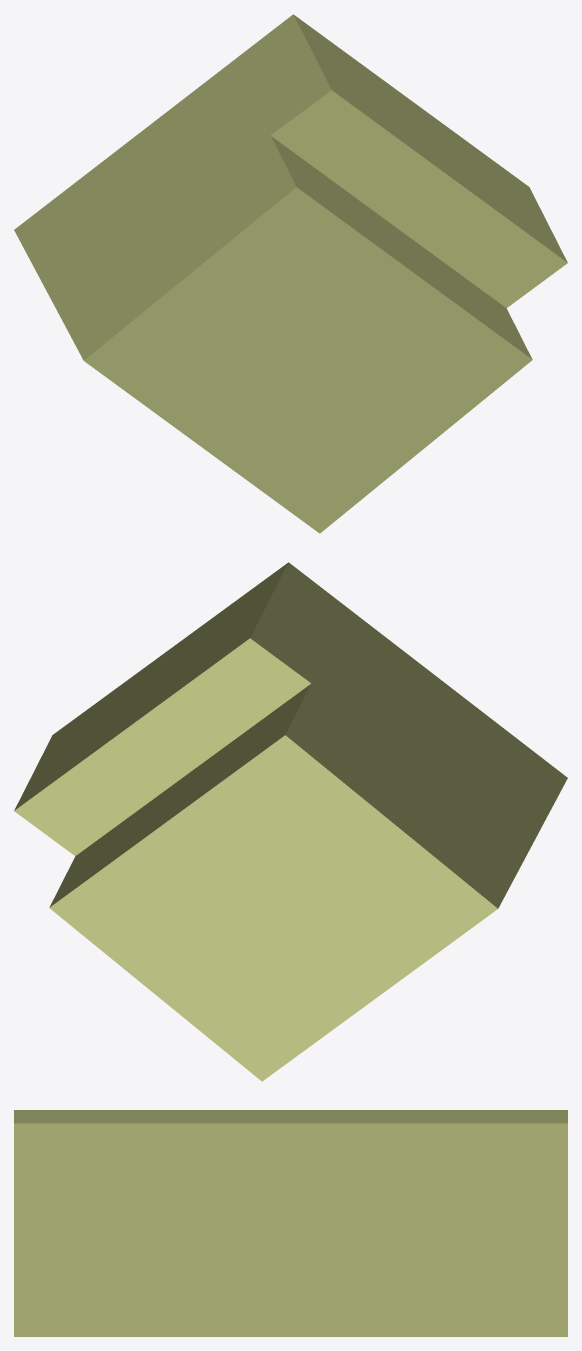
The picture shows the model from 3 angles, top to bottom: view 1: azimuth 30°, elevation 25°; view 2: azimuth 150°, elevation 25°; view 3: azimuth 270°, elevation 25°; orthographic projection. The views are drawn at different scales.
Parts seen in each view (by area): view 1: 0_1_1_3_2_2_3_3_0_2_2_1; view 2: 0_1_1_3_2_2_3_3_0_2_2_1; view 3: 0_1_1_3_2_2_3_3_0_2_2_1.
Boxes of the visible parts, box(x1,y1,x2,y2) form: 0_1_1_3_2_2_3_3_0_2_2_1: box(14, 14, 567, 533); 0_1_1_3_2_2_3_3_0_2_2_1: box(14, 562, 567, 1081); 0_1_1_3_2_2_3_3_0_2_2_1: box(14, 1110, 567, 1336).
Bounding box in the file's own units: 4.66 × 4.14 × 6.
